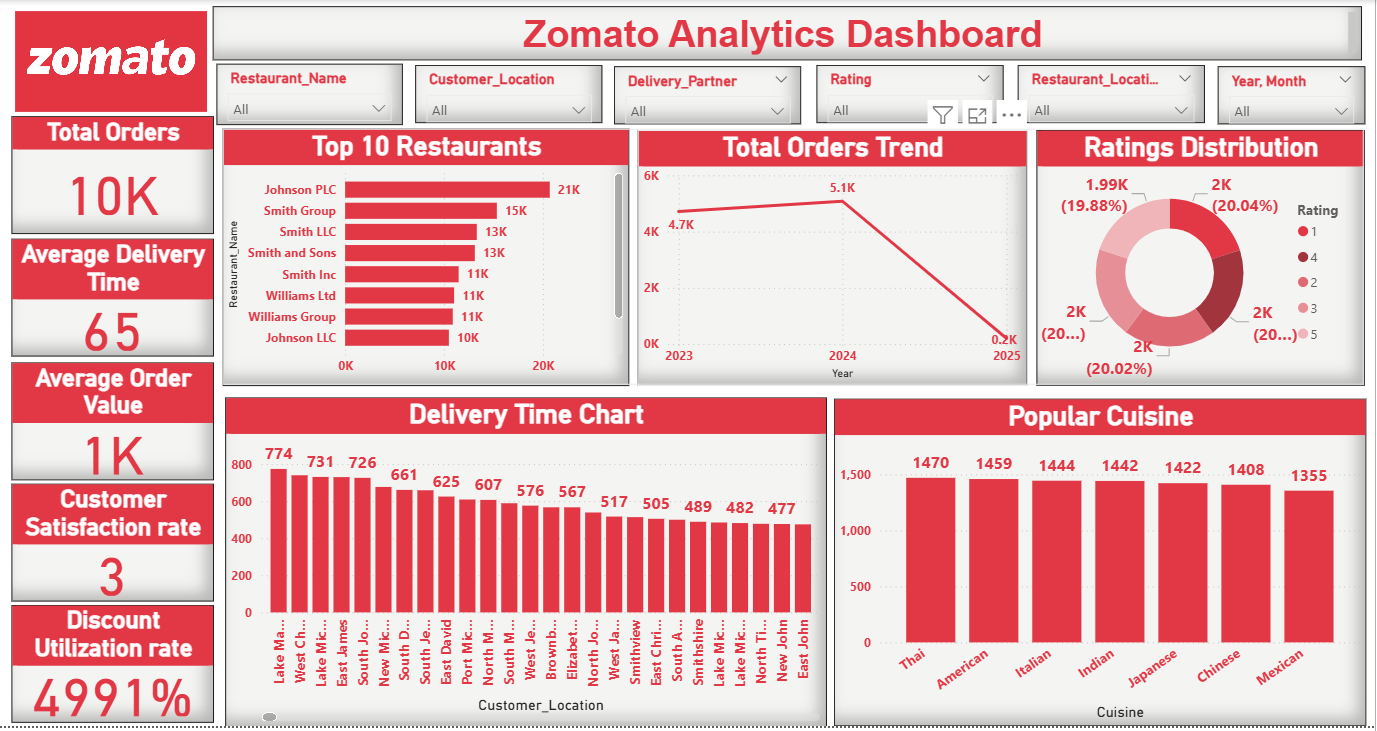

Layout of this report page (visuals, bound fields, positions):
{"tool":"powerbi","page":{"name":"Zomato Insight Dashboard","canvas":[1365,720],"ordinal":0},"visuals":[{"type":"textbox","box":[211.5,6.6,1140.3,53.9],"z":0},{"type":"slicer","fields":{"Values":["Sheet1.Restaurant_Name"]},"box":[215.3,63.1,184.4,60.9],"z":0,"group":"g1"},{"type":"card","title":"Total Orders","fields":{"Values":["Count(Sheet1.Order_ID)"]},"box":[12.3,115.8,200.8,117],"z":0,"group":"g4"},{"type":"image","box":[11.4,6.3,199.9,110.1],"z":1000},{"type":"slicer","fields":{"Values":["Sheet1.Customer_Location"]},"box":[412.9,64.4,185.7,57.3],"z":1000,"group":"g1"},{"type":"card","title":"Average Delivery Time","fields":{"Values":["Avg(Sheet1.Delivery_Time_Minutes)"]},"box":[12.3,237.8,200.8,117],"z":1000,"group":"g4"},{"type":"group","id":"g1","title":"Group 1","box":[215.3,63.1,1139.5,60.9],"z":2000},{"type":"slicer","fields":{"Values":["Sheet1.Delivery_Partner"]},"box":[609.2,65.8,185.7,57.3],"z":2000,"group":"g1"},{"type":"card","title":"Average Order Value","fields":{"Values":["Avg(Sheet1.Order_Amount)"]},"box":[12.3,359.7,200.8,117],"z":2000,"group":"g4"},{"type":"slicer","fields":{"Values":["Sheet1.Rating"]},"box":[810.7,64.4,185.7,57.3],"z":3000,"group":"g1"},{"type":"group","id":"g2","title":"Group 2","box":[222,127.4,1132.5,254.9],"z":3000},{"type":"card","title":"Customer Satisfaction rate","fields":{"Values":["Avg(Sheet1.Rating)"]},"box":[12.3,480.5,200.8,117],"z":3000,"group":"g4"},{"type":"slicer","fields":{"Values":["Sheet1.Order_Date.Variation.Date Hierarchy.Year","Sheet1.Order_Date.Variation.Date Hierarchy.Month"]},"box":[1208.6,65.8,146.2,57.3],"z":4000,"group":"g1"},{"type":"group","id":"g3","title":"Group 3","box":[224,393.9,1132.1,327.4],"z":4000},{"type":"card","title":"Discount Utilization rate ","fields":{"Values":["Sheet1.Discount Utilization (%)"]},"box":[12.3,600.4,201,116.9],"z":4000,"group":"g4"},{"type":"slicer","fields":{"Values":["Sheet1.Restaurant_Location"]},"box":[1009.7,64.4,185.7,57.3],"z":5000,"group":"g1"},{"type":"group","id":"g4","title":"Group 4","box":[12.3,115.8,201,601.5],"z":5000},{"type":"lineChart","title":"Total Orders Trend ","fields":{"Category":["Sheet1.Order_Date.Variation.Date Hierarchy.Year"],"Y":["CountNonNull(Sheet1.Order_ID)"]},"box":[633.9,128.7,386.2,253.6],"z":5000,"group":"g2"},{"type":"columnChart","title":"Delivery Time Chart","fields":{"Category":["Sheet1.Customer_Location"],"Y":["Sum(Sheet1.Delivery_Time_Minutes)"]},"box":[224,393.9,596.4,327.4],"z":6000,"group":"g3"},{"type":"barChart","title":"Top 10 Restaurants","fields":{"Category":["Sheet1.Restaurant_Name"],"Y":["Sum(Sheet1.Order_Amount)"]},"box":[222,127.4,403.3,254.9],"z":7000,"group":"g2"},{"type":"donutChart","title":"Ratings Distribution ","fields":{"Category":["Sheet1.Rating"],"Y":["CountNonNull(Sheet1.Order_ID)"]},"box":[1028.7,128.7,325.8,253.6],"z":8000,"group":"g2"},{"type":"columnChart","title":"Popular Cuisine","fields":{"Category":["Sheet1.Cuisine"],"Y":["CountNonNull(Sheet1.Order_ID)"]},"box":[827.9,395.3,528.2,324.9],"z":9000,"group":"g3"}]}

Visuals, with their boxes in screenshot pixels (x1, y1, x2, y2), scaled from the page's 1365x720 canvas onto the 1377x731 screenshot:
textbox: (213, 7, 1364, 61)
slicer - Sheet1.Restaurant_Name: (217, 64, 403, 126)
"Total Orders" card: (12, 118, 215, 236)
image: (12, 6, 213, 118)
slicer - Sheet1.Customer_Location: (417, 65, 604, 124)
"Average Delivery Time" card: (12, 241, 215, 360)
"Group 1" group: (217, 64, 1367, 126)
slicer - Sheet1.Delivery_Partner: (615, 67, 802, 125)
"Average Order Value" card: (12, 365, 215, 484)
slicer - Sheet1.Rating: (818, 65, 1005, 124)
"Group 2" group: (224, 129, 1366, 388)
"Customer Satisfaction rate" card: (12, 488, 215, 607)
slicer - Sheet1.Order_Date.Variation.Date Hierarchy.Year x Sheet1.Order_Date.Variation.Date Hierarchy.Month: (1219, 67, 1367, 125)
"Group 3" group: (226, 400, 1368, 730)
"Discount Utilization rate " card: (12, 610, 215, 728)
slicer - Sheet1.Restaurant_Location: (1019, 65, 1206, 124)
"Group 4" group: (12, 118, 215, 728)
"Total Orders Trend " lineChart: (639, 131, 1029, 388)
"Delivery Time Chart" columnChart: (226, 400, 828, 730)
"Top 10 Restaurants" barChart: (224, 129, 631, 388)
"Ratings Distribution " donutChart: (1038, 131, 1366, 388)
"Popular Cuisine" columnChart: (835, 401, 1368, 730)
